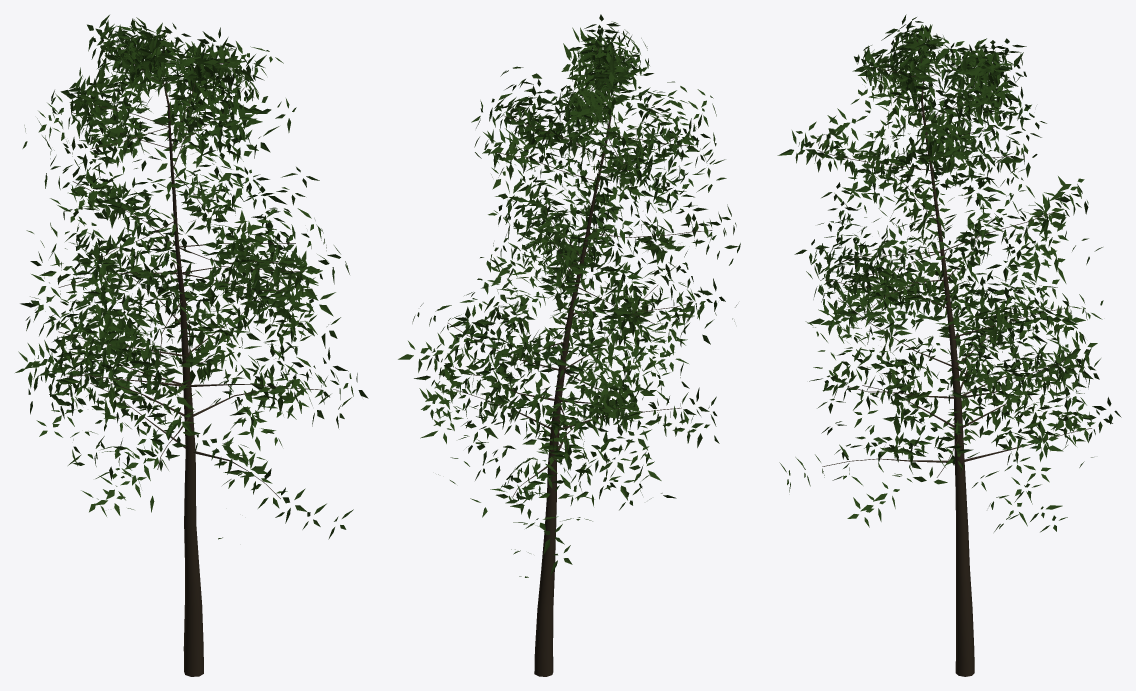
Rendered from Tree-29.FBX.
3 renders of one model, left to right at view 1: azimuth 30°, elevation 25°; view 2: azimuth 150°, elevation 25°; view 3: azimuth 270°, elevation 25°, orthographic. The views are drawn at different scales.
Parts seen in each view (by area): view 1: PCR0001B, PCR0016F, PCR0015F, PCR0013F, PCR0003F, PCR0002F, PCR0009F, PCR0021F, PCR0018F, PCR0004F, PCR0012F, PCR0026F (+20 smaller); view 2: PCR0001B, PCR0013F, PCR0015F, PCR0023F, PCR0031F, PCR0026F, PCR0018F, PCR0024F, PCR0004F, PCR0012F, PCR0003F, PCR0008F (+20 smaller); view 3: PCR0001B, PCR0031F, PCR0015F, PCR0013F, PCR0009F, PCR0003F, PCR0019F, PCR0002F, PCR0012F, PCR0011F, PCR0010F, PCR0024F (+20 smaller).
Part boxes in pixels (x1,y1,x2,y2): PCR0001B: (162, 46, 203, 676); PCR0016F: (191, 223, 311, 372); PCR0015F: (190, 179, 349, 336); PCR0013F: (26, 119, 180, 275); PCR0003F: (87, 15, 169, 106); PCR0002F: (156, 37, 266, 106); PCR0009F: (150, 119, 260, 267); PCR0021F: (25, 258, 151, 415); PCR0018F: (78, 282, 233, 435); PCR0004F: (65, 61, 159, 218); PCR0012F: (192, 167, 326, 337); PCR0026F: (39, 288, 190, 478); PCR0001B: (534, 55, 621, 676); PCR0013F: (493, 198, 639, 356); PCR0015F: (490, 176, 642, 305); PCR0023F: (419, 297, 538, 443); PCR0031F: (462, 383, 643, 577); PCR0026F: (564, 313, 670, 500); PCR0018F: (592, 278, 737, 376); PCR0024F: (480, 344, 659, 521); PCR0004F: (601, 79, 726, 210); PCR0012F: (498, 164, 638, 305); PCR0003F: (550, 70, 630, 147); PCR0008F: (471, 73, 596, 167); PCR0001B: (917, 37, 974, 676); PCR0031F: (948, 369, 1121, 532); PCR0015F: (821, 218, 949, 376); PCR0013F: (952, 152, 1102, 307); PCR0009F: (777, 89, 904, 223); PCR0003F: (924, 37, 1026, 106); PCR0019F: (966, 238, 1103, 347); PCR0002F: (852, 39, 938, 110); PCR0012F: (828, 177, 950, 347); PCR0011F: (854, 133, 968, 256); PCR0010F: (889, 99, 1046, 241); PCR0024F: (956, 285, 1102, 431).
Bounding box in the file's own units: 31.92 × 61.34 × 30.36.
